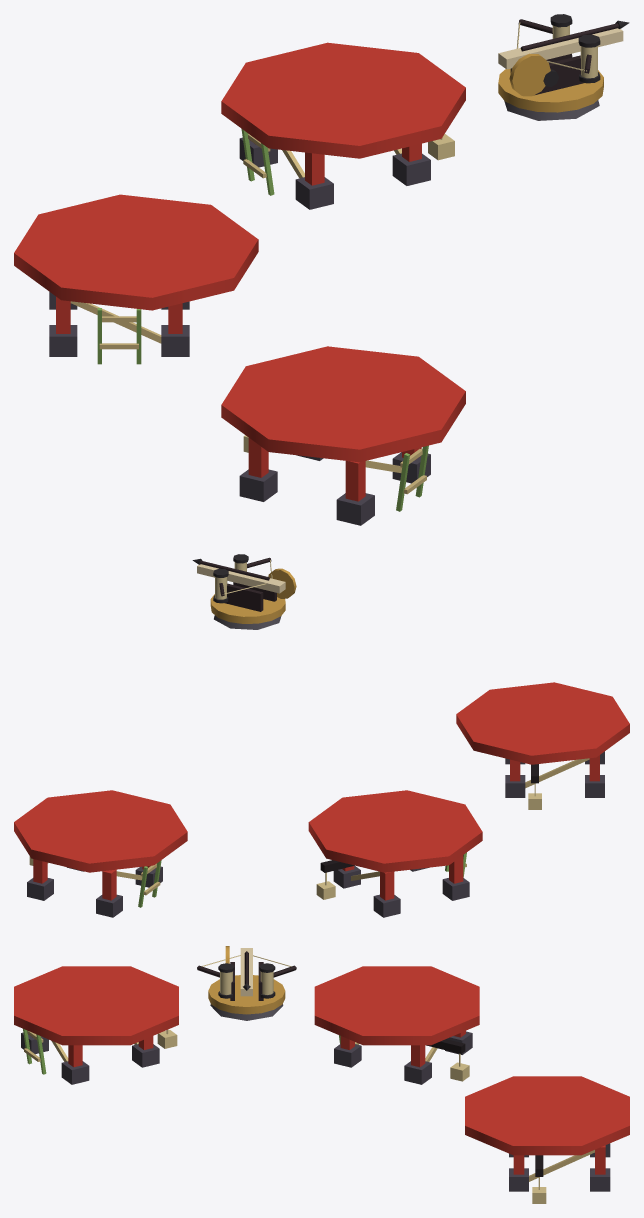
File: base_builder_weapon_2.glb
3 views of the same model, one above another, from view 1: azimuth 30°, elevation 25°; view 2: azimuth 150°, elevation 25°; view 3: azimuth 270°, elevation 25° (orthographic). The views are drawn at different scales.
Parts seen in each view (by area): view 1: tower_slot_2_plate, tower_slot_1_plate, tower_slot_3_plate, weapon_mount_gear, stock, gear_big, tower_slot_3_foot_3, tower_slot_2_foot_0, tower_slot_2_foot_1, tower_slot_3_foot_2, frame_cheek_l, tower_slot_2_leg_1 (+3 smaller); view 2: tower_slot_1_plate, tower_slot_3_plate, tower_slot_2_plate, weapon_mount_gear, stock, frame_cheek_r, tower_slot_1_foot_1; view 3: tower_slot_1_plate, tower_slot_3_plate, tower_slot_2_plate, weapon_mount_gear, tower_slot_2_foot_3, tower_slot_1_foot_2, tower_slot_1_foot_3, tower_slot_2_foot_2, stock, tower_slot_3_foot_0, weapon_mount, tower_slot_3_foot_2.
Part boxes in pixels (x1,y1,x2,y2): tower_slot_2_plate: [221, 346, 465, 462]; tower_slot_1_plate: [14, 194, 258, 310]; tower_slot_3_plate: [221, 42, 465, 158]; weapon_mount_gear: [498, 68, 603, 112]; stock: [498, 28, 623, 69]; gear_big: [509, 53, 550, 96]; tower_slot_3_foot_3: [295, 177, 333, 209]; tower_slot_2_foot_0: [239, 469, 277, 501]; tower_slot_2_foot_1: [336, 493, 374, 525]; tower_slot_3_foot_2: [392, 153, 430, 185]; frame_cheek_l: [534, 55, 584, 95]; tower_slot_2_leg_1: [345, 461, 365, 501]; tower_slot_1_plate: [308, 790, 482, 872]; tower_slot_3_plate: [14, 790, 187, 872]; tower_slot_2_plate: [456, 682, 629, 764]; weapon_mount_gear: [210, 594, 285, 623]; stock: [197, 564, 285, 593]; frame_cheek_r: [224, 583, 263, 611]; tower_slot_1_foot_1: [442, 878, 469, 900]; tower_slot_1_plate: [314, 966, 479, 1045]; tower_slot_3_plate: [465, 1076, 629, 1155]; tower_slot_2_plate: [14, 966, 178, 1045]; weapon_mount_gear: [208, 975, 285, 1014]; tower_slot_2_foot_3: [61, 1061, 89, 1084]; tower_slot_1_foot_2: [404, 1061, 431, 1084]; tower_slot_1_foot_3: [334, 1044, 361, 1067]; tower_slot_2_foot_2: [132, 1044, 159, 1067]; stock: [240, 948, 252, 996]; tower_slot_3_foot_0: [590, 1168, 610, 1191]; weapon_mount: [210, 1004, 283, 1020]; tower_slot_3_foot_2: [509, 1168, 528, 1191].
Bounding box in the file's own units: 1.05 × 0.576 × 1.52.
